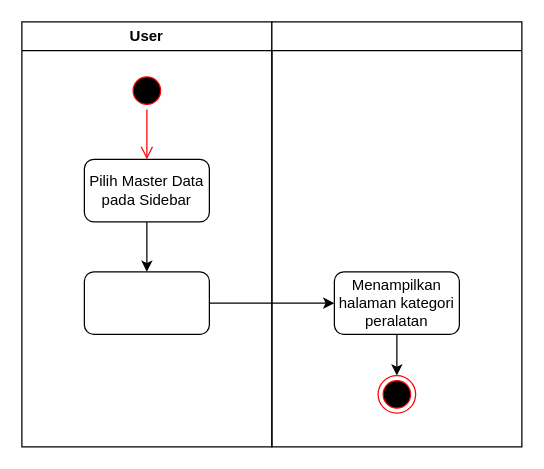
This 544x469 diagram has some shape labels left out. The box of each missing label's shape, as (x1, y1, x2, y2) in pixels:
Pilih Kategori Peralatan: (83, 271, 209, 334)
Sistem: (271, 21, 522, 447)
